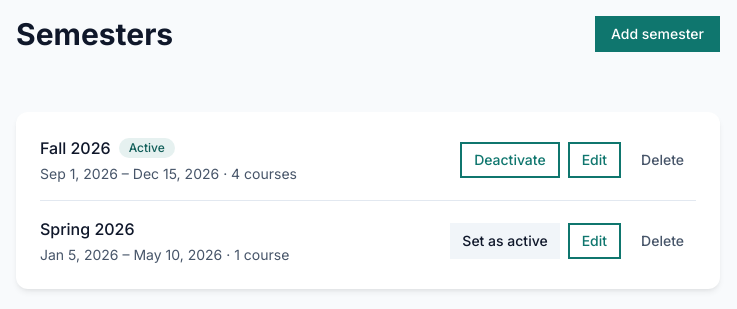
Test case: SemestersPage activation (AC 4, D110-1) › deactivates the active row via PATCH { isActive: false }
Step 1. Click the button with aria-label "deactivate fall 2026" → click(510, 160), box [460,142,560,178]
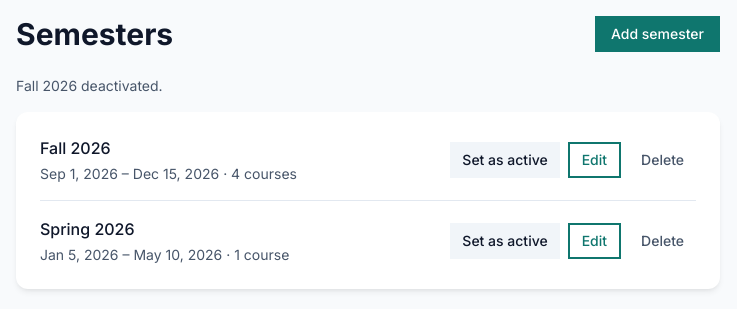
expect the message reads "Fall 2026 deactivated.": met, box [16,77,163,94]
